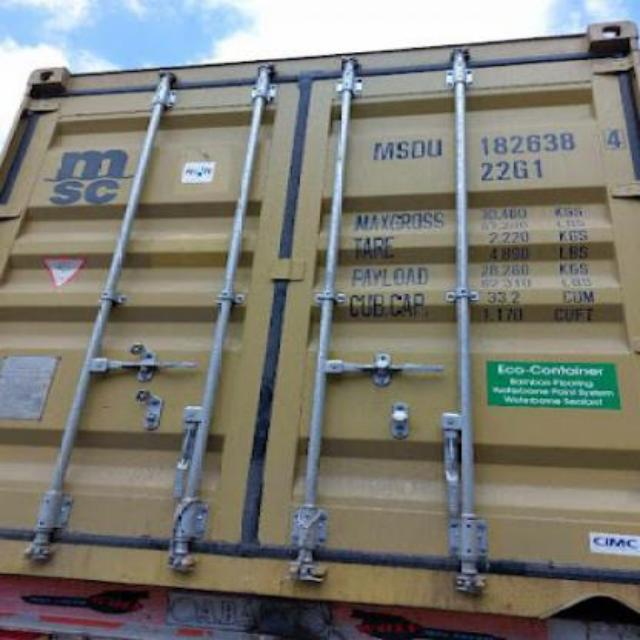1: (480, 137, 490, 153)
2: (508, 134, 526, 154)
3: (544, 132, 560, 152)
4: (602, 128, 628, 150)
6: (528, 135, 542, 153)
8: (492, 136, 510, 154), (560, 132, 576, 152)
D: (410, 139, 426, 157)
M: (372, 142, 396, 160)
S: (394, 139, 410, 159)
U: (424, 139, 442, 159)
